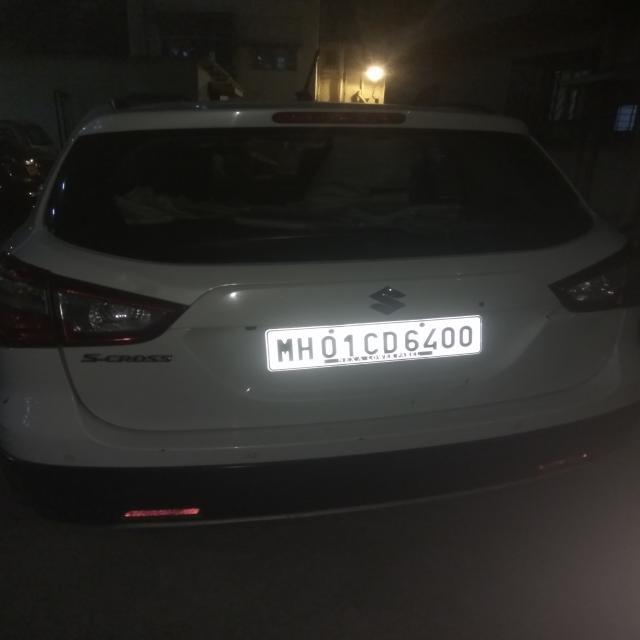Number-Plate: (264, 318, 485, 364)
